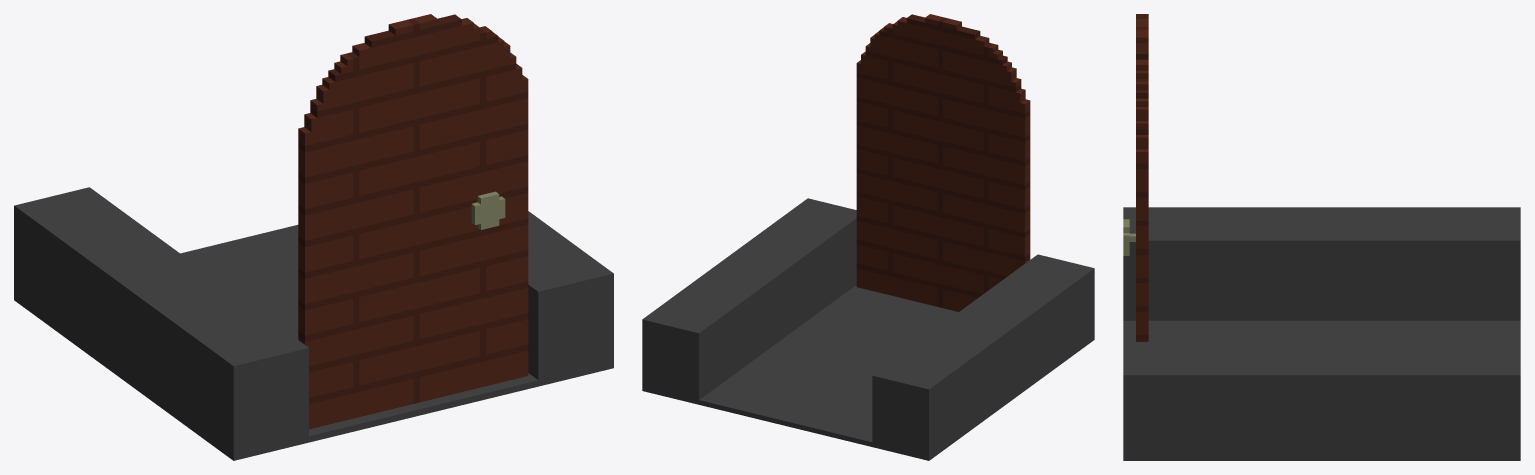
Rendered from door-4.obj.
3 views of the same model, side by side, from view 1: azimuth 30°, elevation 25°; view 2: azimuth 150°, elevation 25°; view 3: azimuth 270°, elevation 25° (orthographic). The views are drawn at different scales.
Parts seen in each view (by area): view 1: door-4; view 2: door-4; view 3: door-4.
Part boxes in pixels (<box>): door-4: <box>14,14,613,460</box>; door-4: <box>642,14,1094,460</box>; door-4: <box>1123,14,1520,460</box>.
Size of the model in its own units: 126 by 122 by 126.
1 material, 1 textured.
